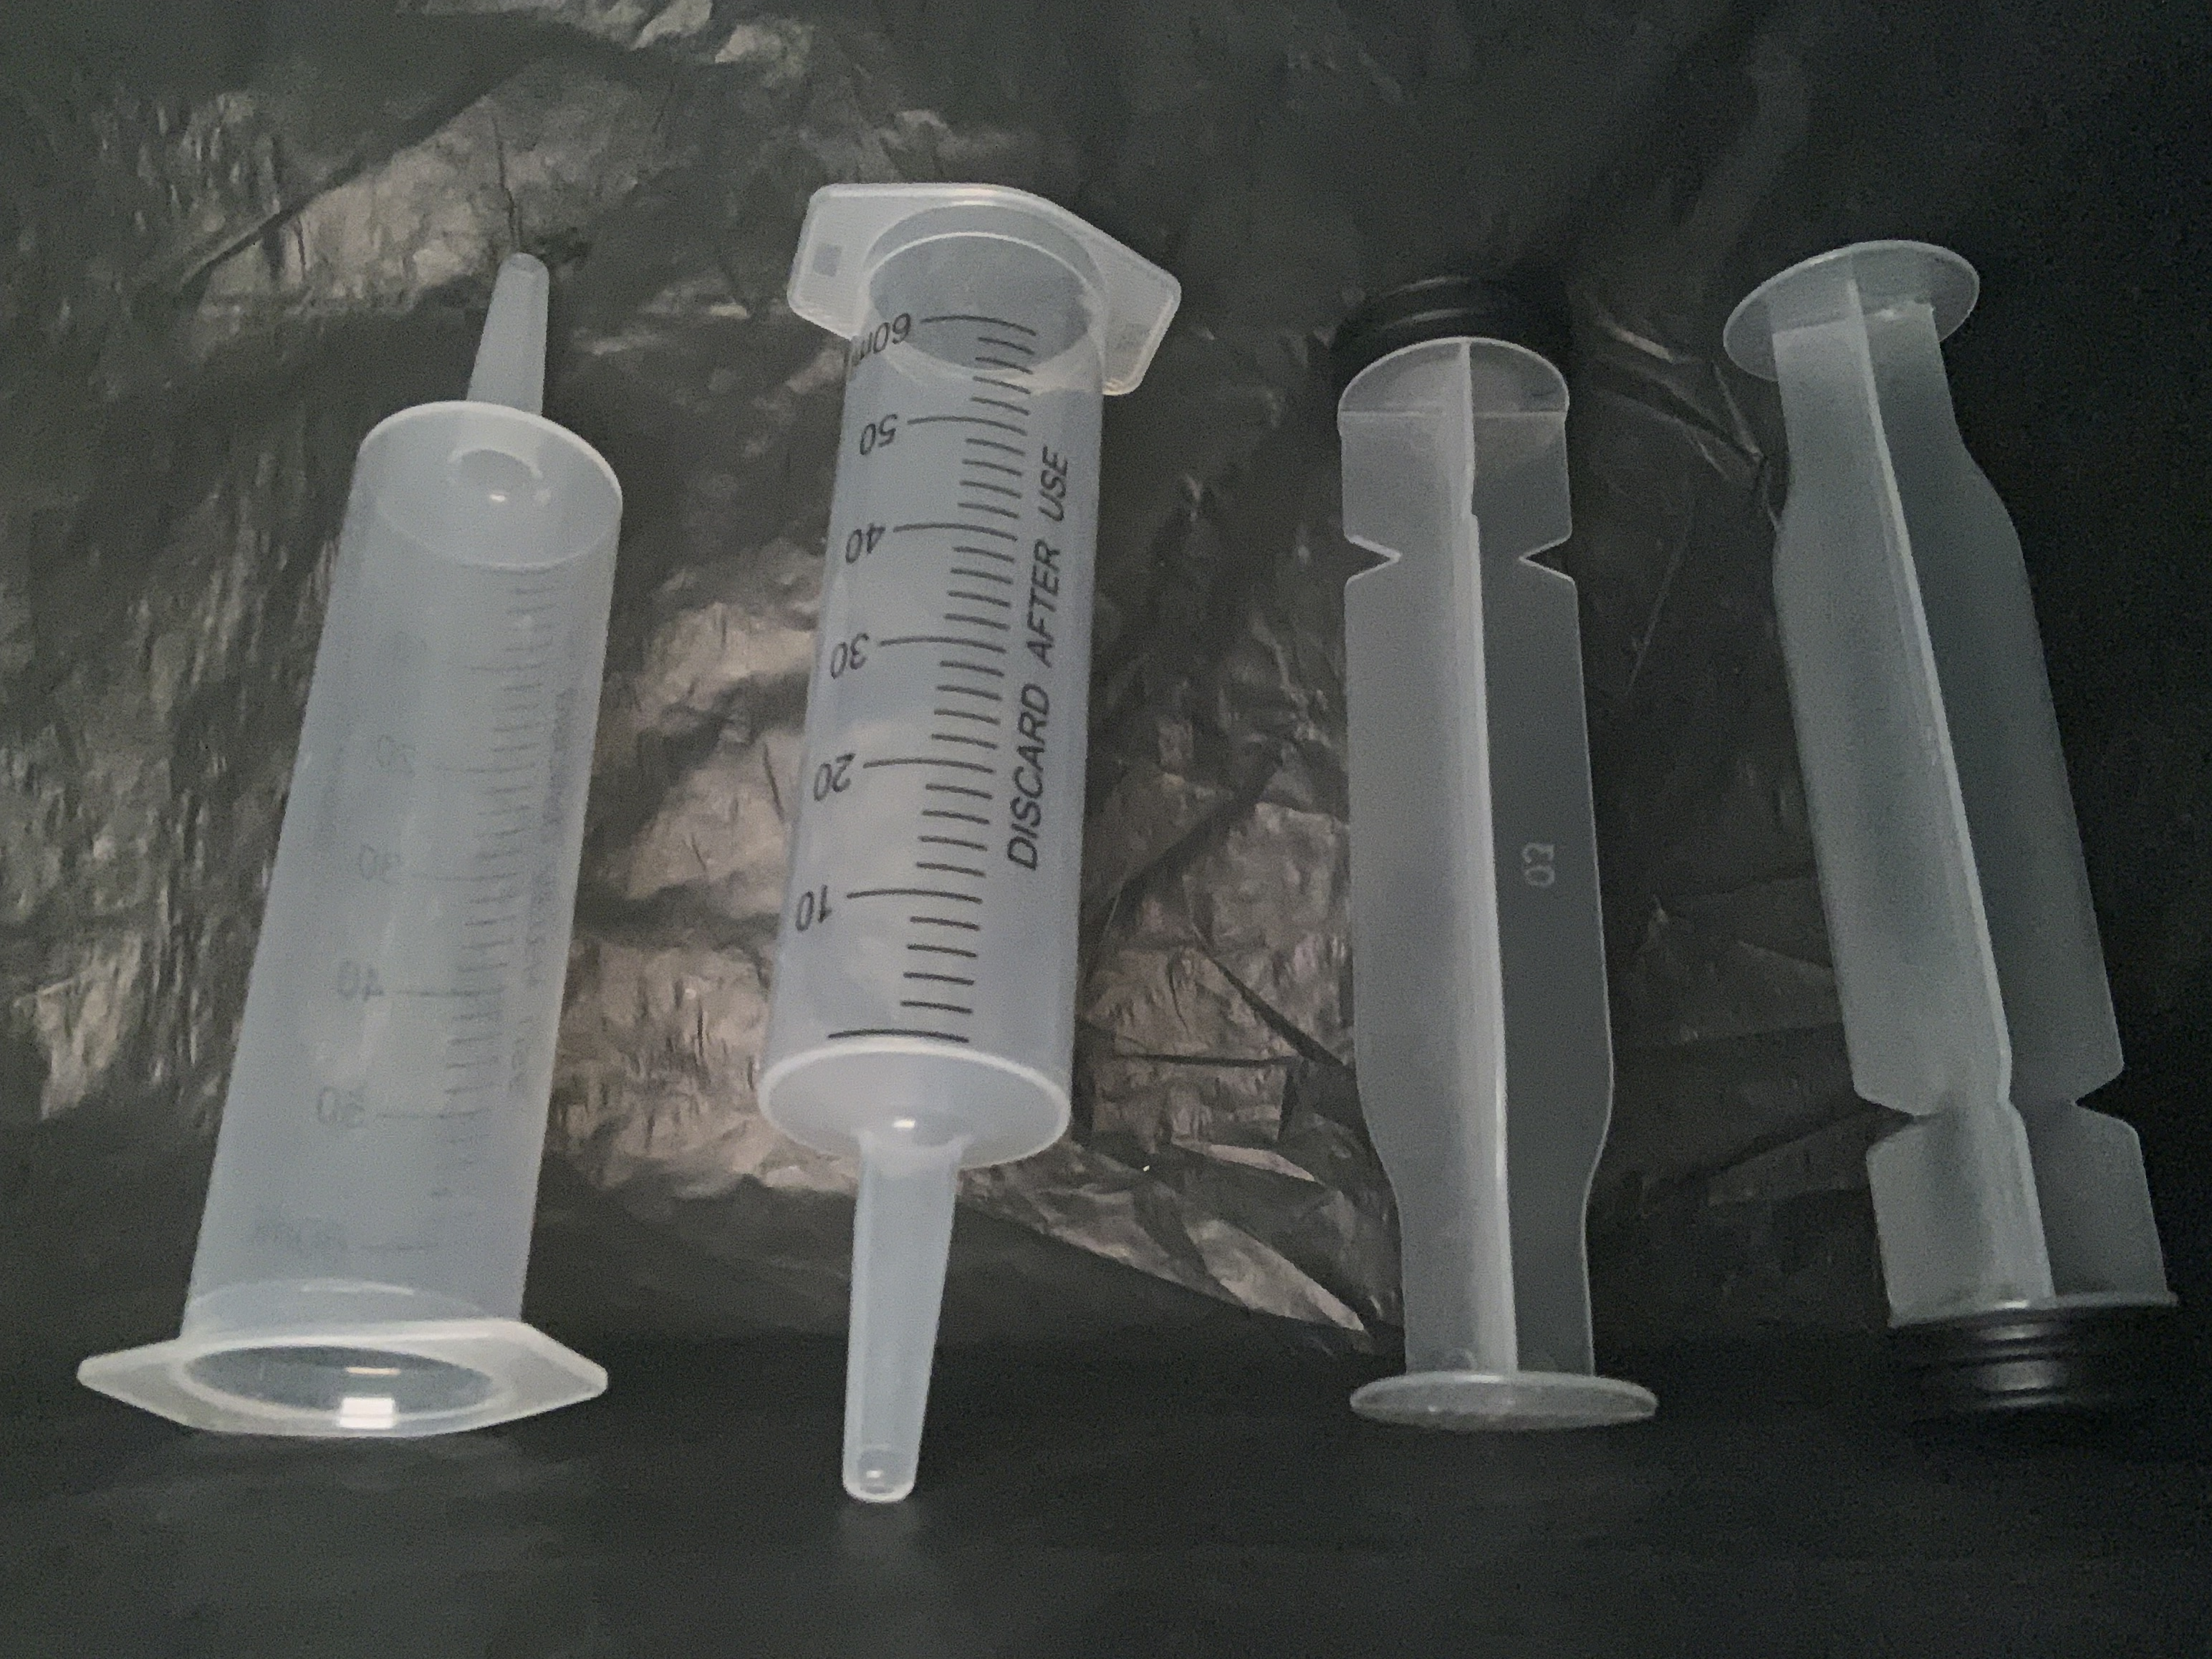plunger: (1719, 228, 2188, 1450), (1320, 261, 1663, 1441)
syringe: (73, 234, 627, 1446), (747, 139, 1190, 1507)
